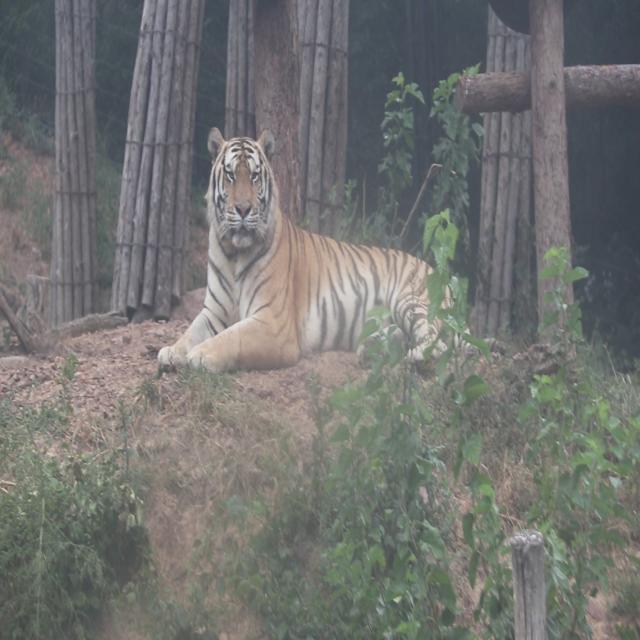Tiger: (146, 125, 514, 376)
